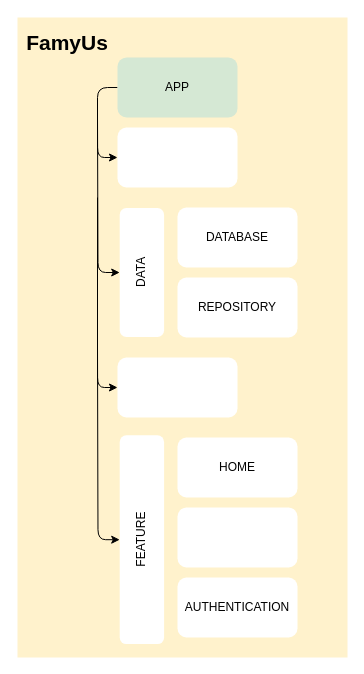
The diagram is 364 pixels wide and 674 high, and some of its shapes have lost their labels. The centre of each missing label's shape, as x and y in pixels:
"CORE" belongs at (x=177, y=157).
"DOMAIN" belongs at (x=177, y=387).
"NOTE" belongs at (x=237, y=537).
